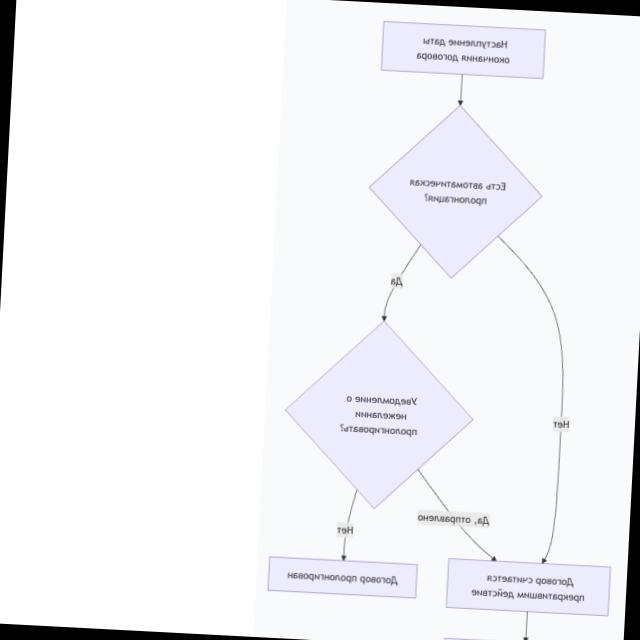arrow: (498, 228, 583, 418), (541, 432, 564, 564), (417, 469, 448, 512), (380, 288, 393, 320), (345, 491, 357, 523), (458, 75, 462, 105), (523, 612, 527, 639), (341, 539, 345, 560)
diamond: (284, 321, 472, 509), (368, 105, 542, 278)
rectangle: (445, 559, 609, 616), (380, 22, 544, 79), (266, 556, 417, 599)
text_region: (418, 512, 491, 527), (337, 524, 355, 536), (553, 418, 570, 430), (390, 276, 403, 288)
